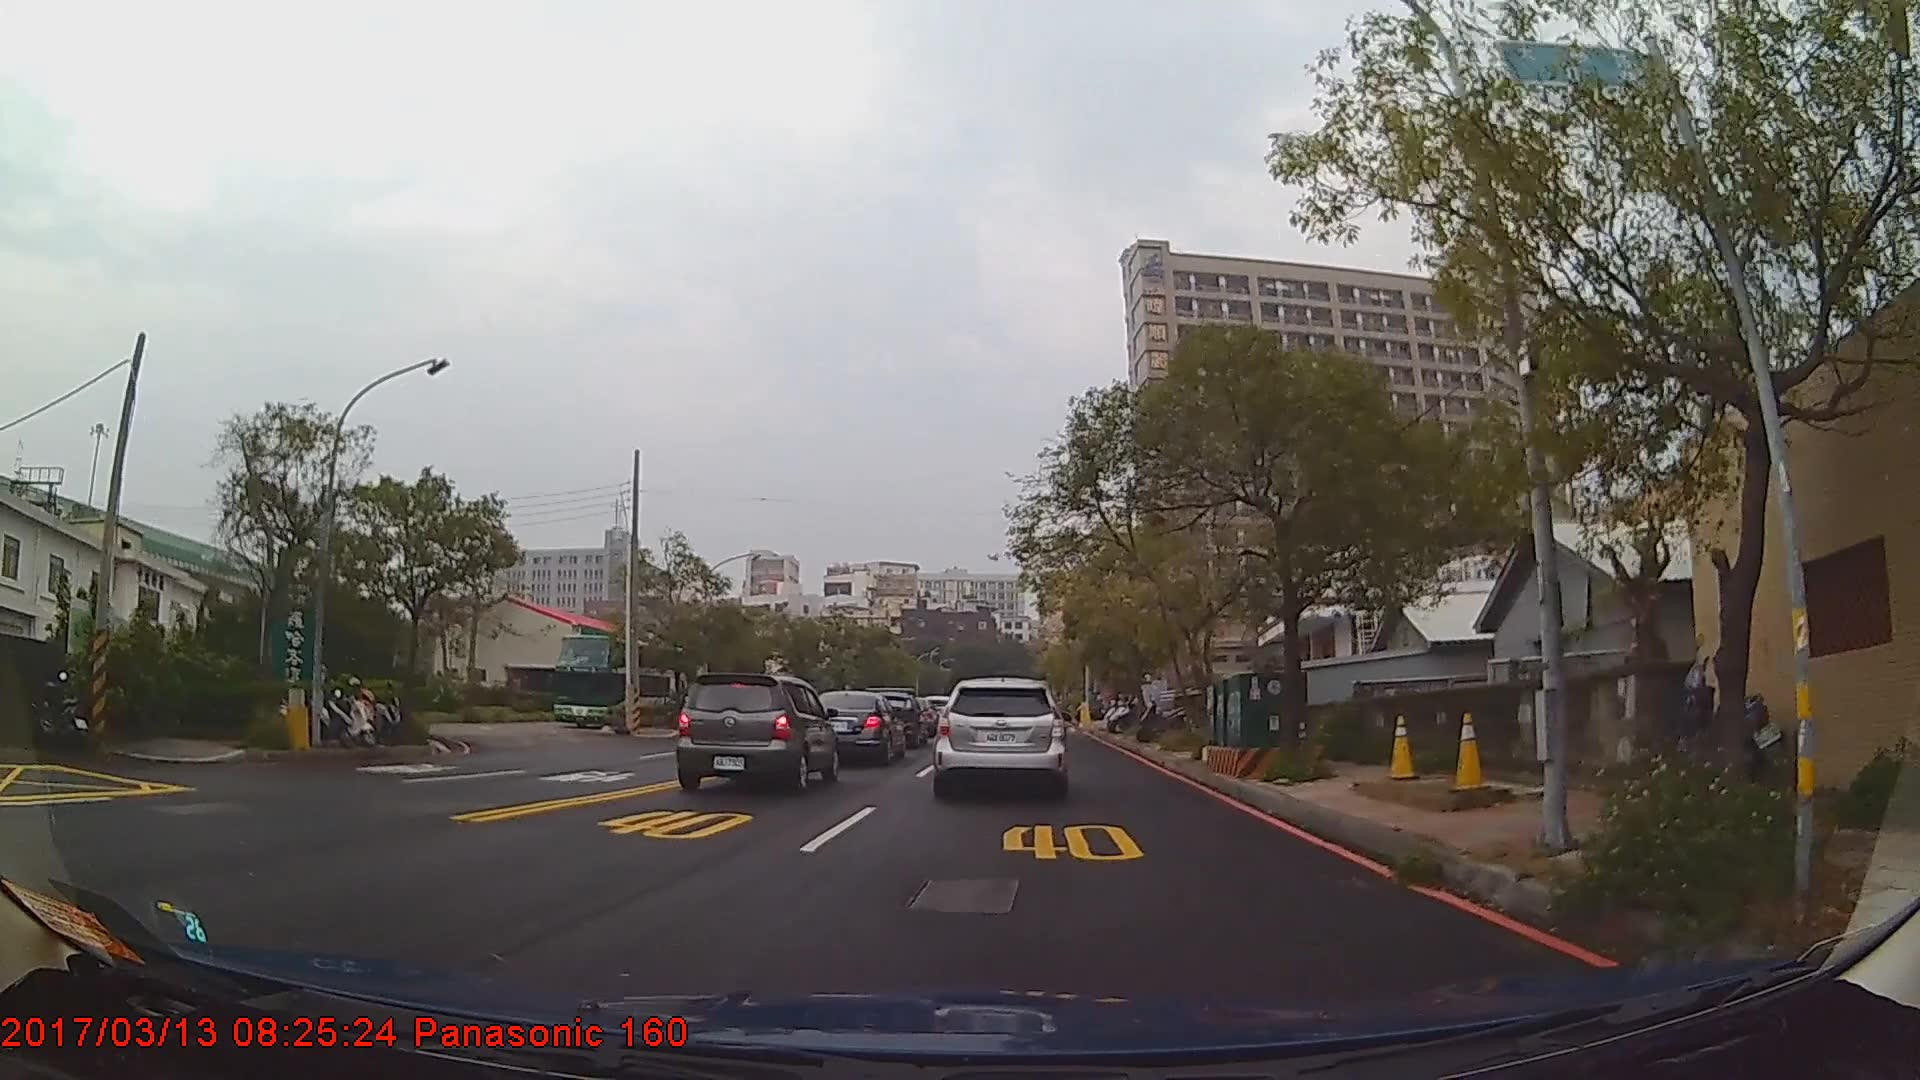vehicle: (673, 671, 835, 793), (932, 675, 1067, 795), (551, 632, 702, 733), (803, 688, 906, 765)
